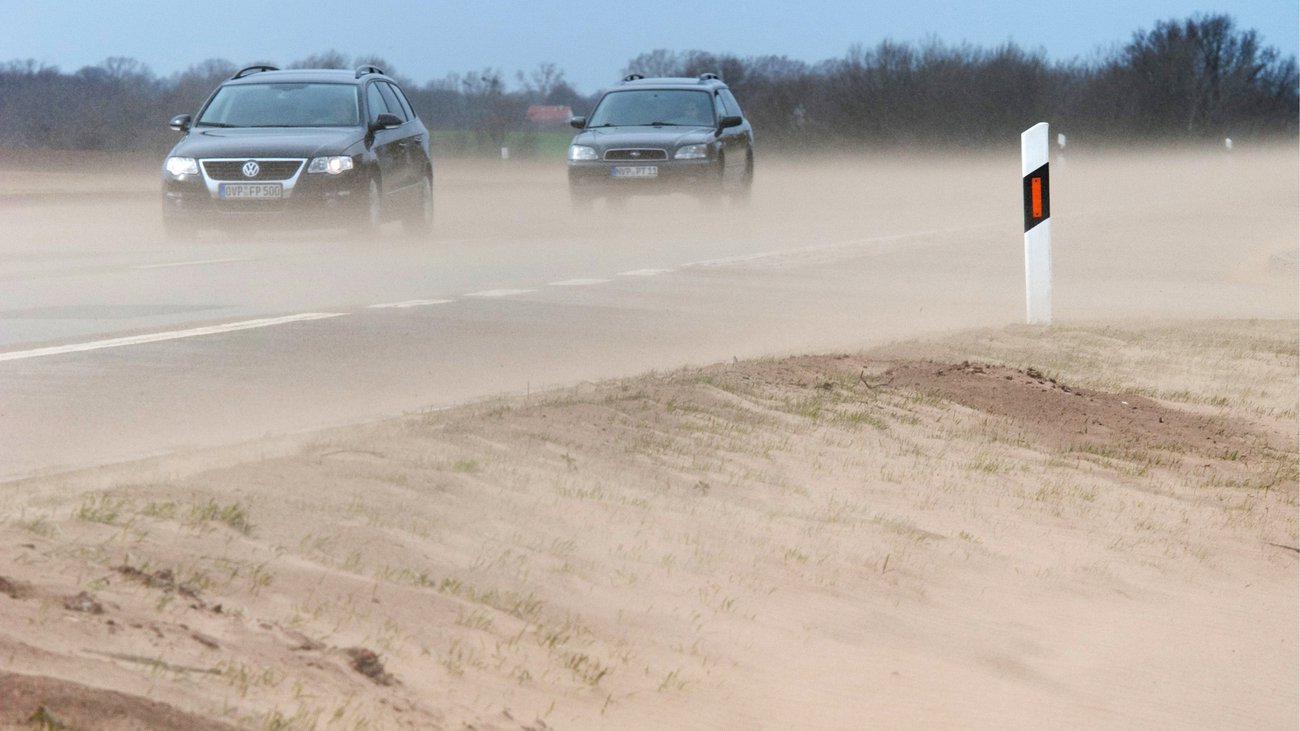car: (157, 64, 435, 235), (564, 76, 755, 198)
